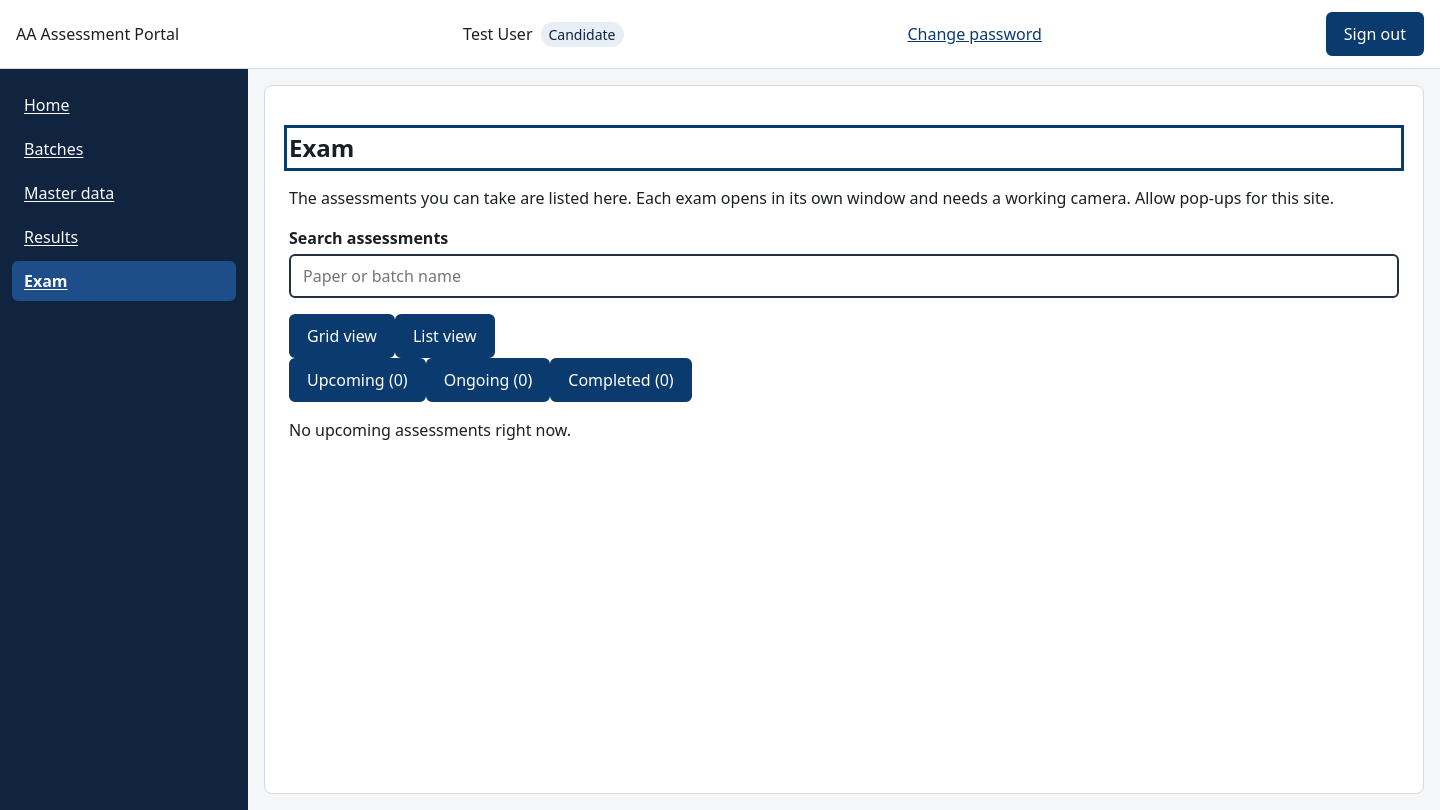
Test: shows loading, then a message for each empty tab
Expected: the text "No upcoming assessments right now." is shown, [289,419,571,441]
Click the tab "Ongoing (0)". click: point(488, 380)
box: [426,358,550,402]
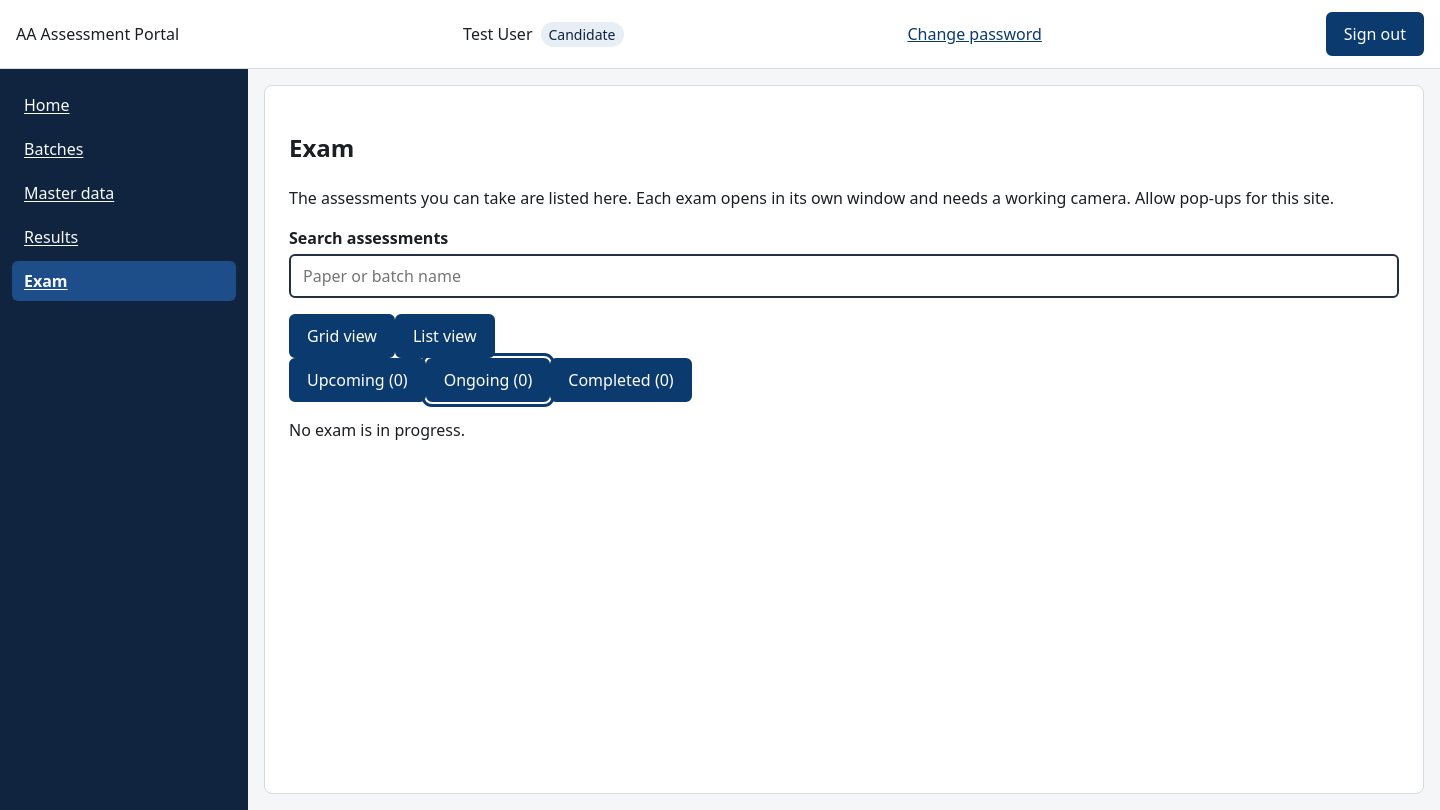
Now the text "No exam is in progress." is shown, box [289,419,465,441]
Click the tab "Completed (0)". click: point(621, 380)
box: [550,358,692,402]
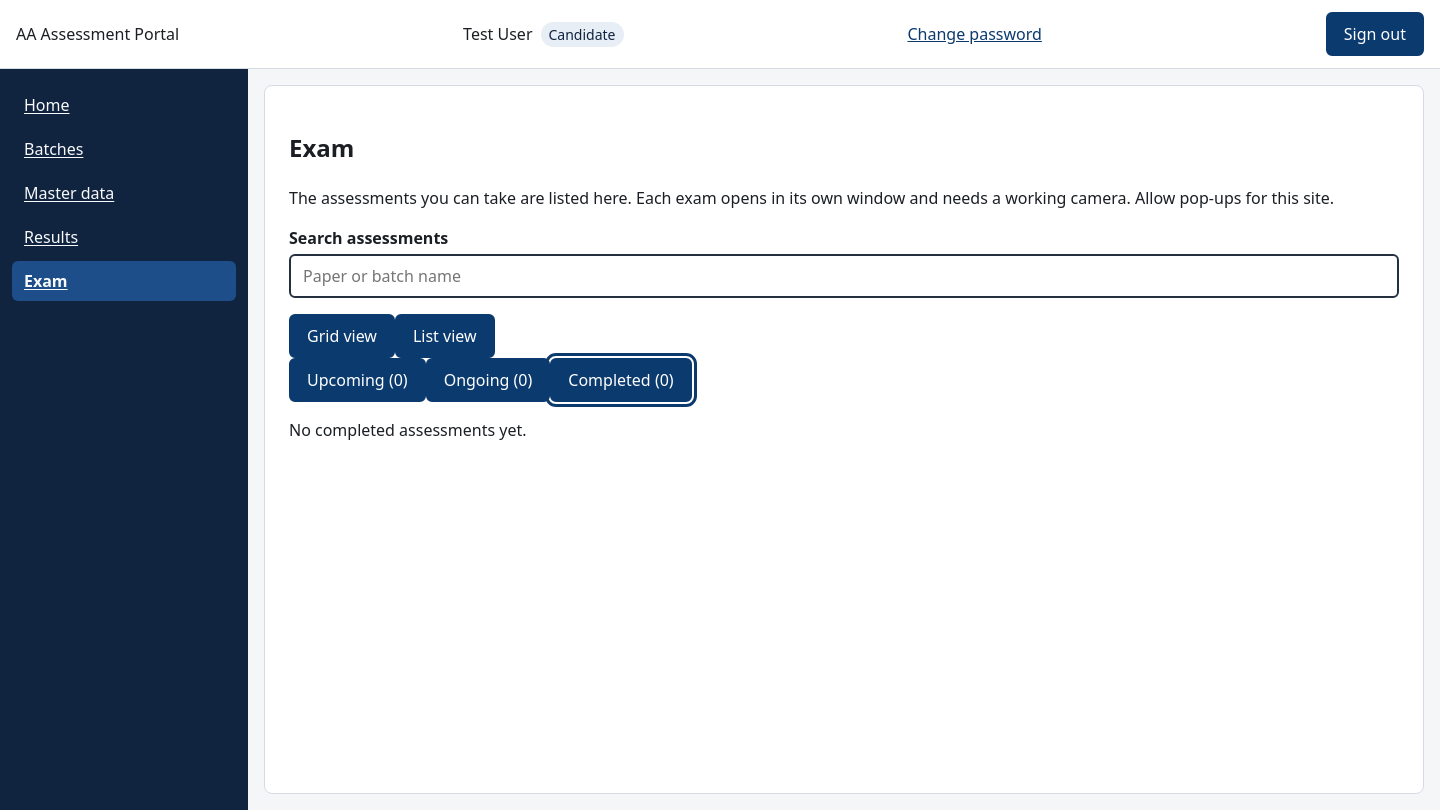
Now the text "No completed assessments yet." is shown, box [289,419,526,441]
